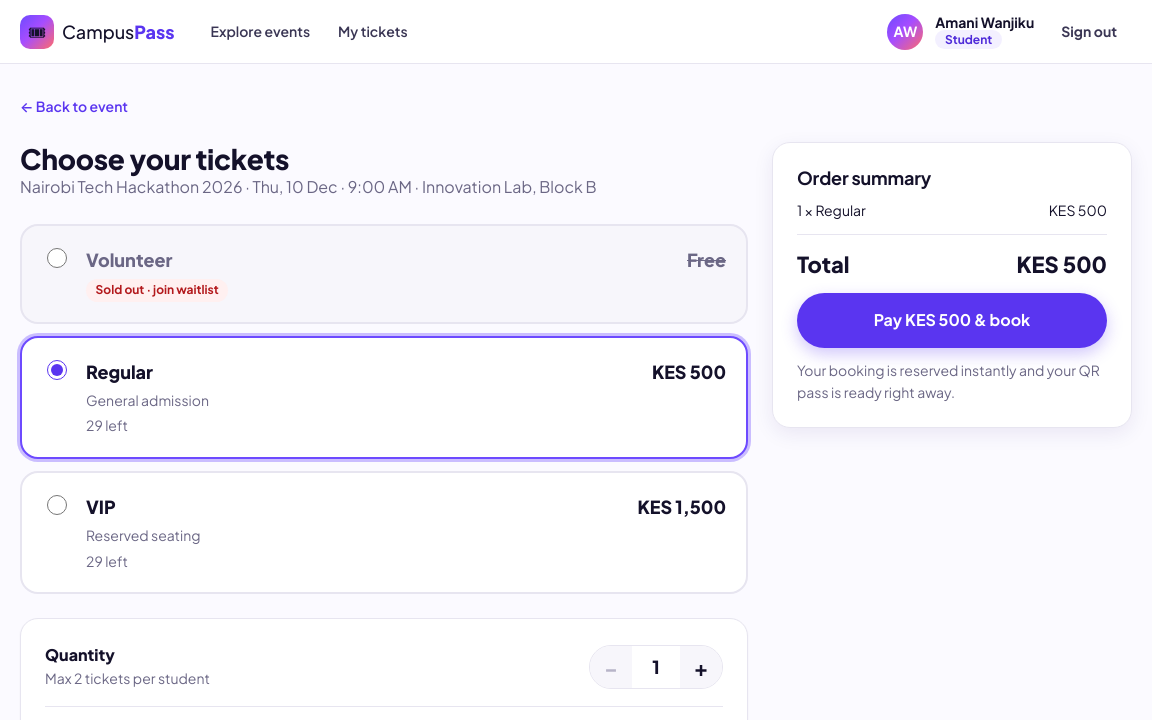
Test: Event details & booking flow › supports tier selection, the 2-ticket cap, live KES total and sold-out waitlist
expect the heading "Choose your tickets" is shown: met, box x1=20 y1=141 x2=289 y2=176
expect the text "Sold out · join waitlist" is shown: met, box x1=86 y1=278 x2=228 y2=302
Click the radio button labelled "VIP KES 1,500 Reserved seating 29 left": click(57, 505) x1=47 y1=495 x2=67 y2=515
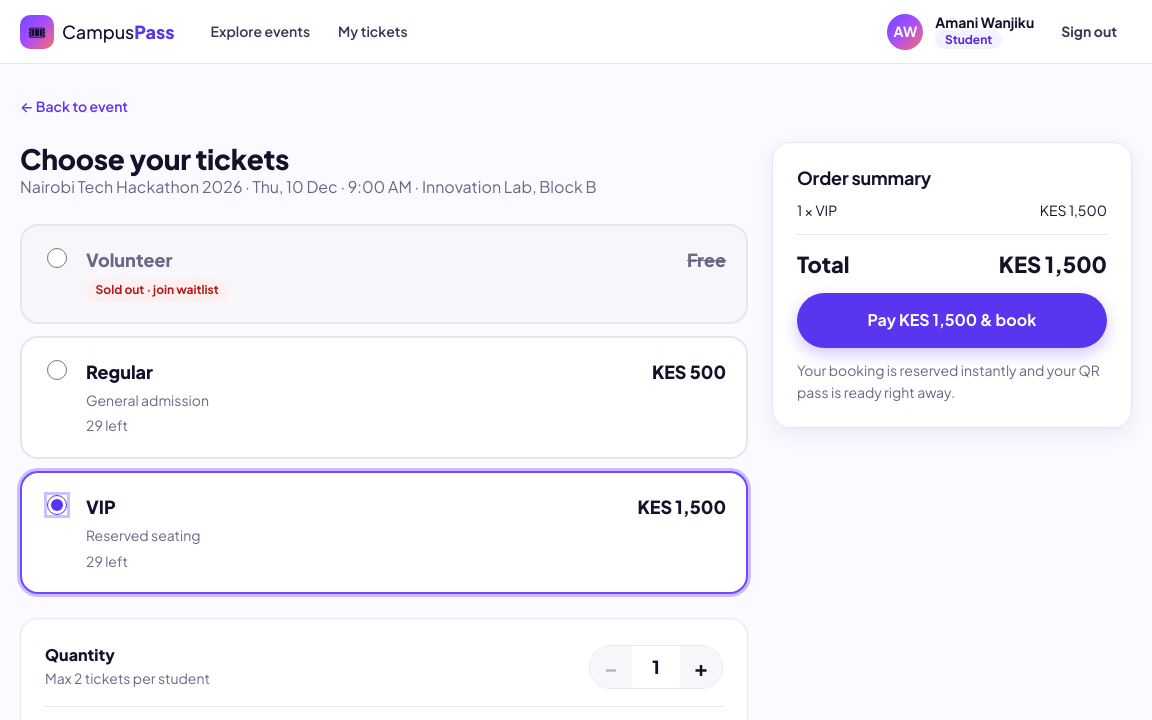
Click the button named "Increase quantity": click(701, 667) x1=680 y1=646 x2=722 y2=688
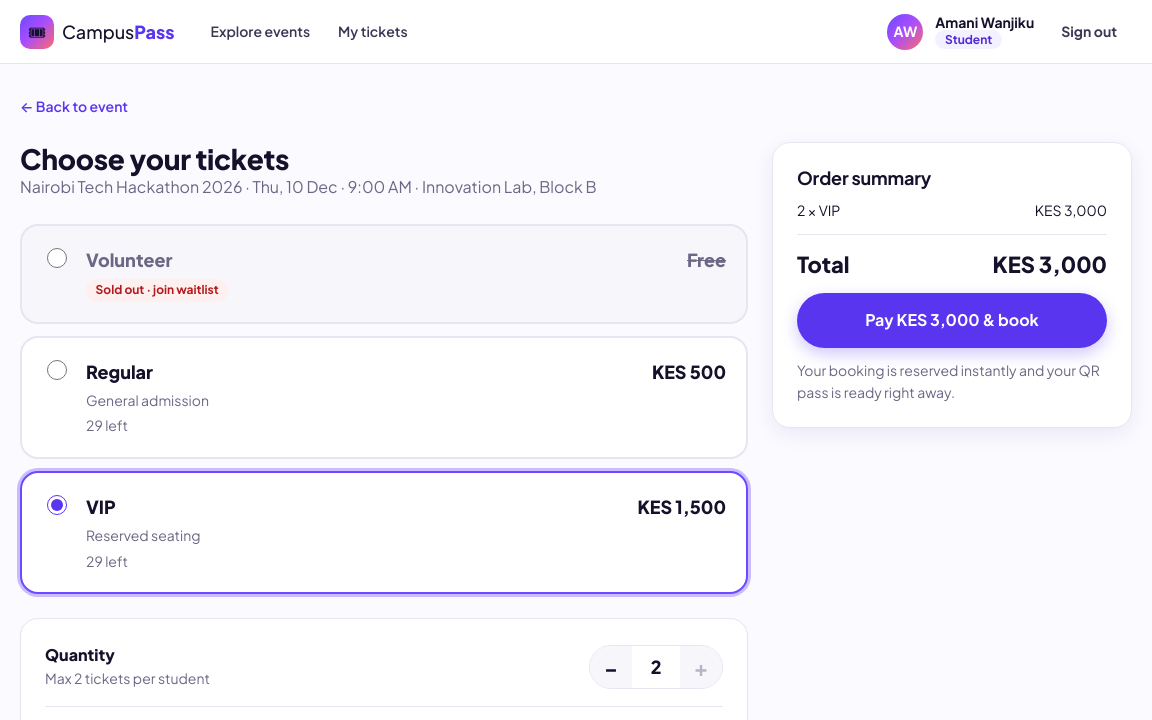
expect the text with test id "booking-total" reads "KES 3,000": met, box x1=993 y1=250 x2=1107 y2=278
expect the button named "Increase quantity" is disabled: met, box x1=680 y1=646 x2=722 y2=688
Click the radio button labelled "Volunteer Free Sold out · join waitlist": click(57, 258) x1=47 y1=248 x2=67 y2=268
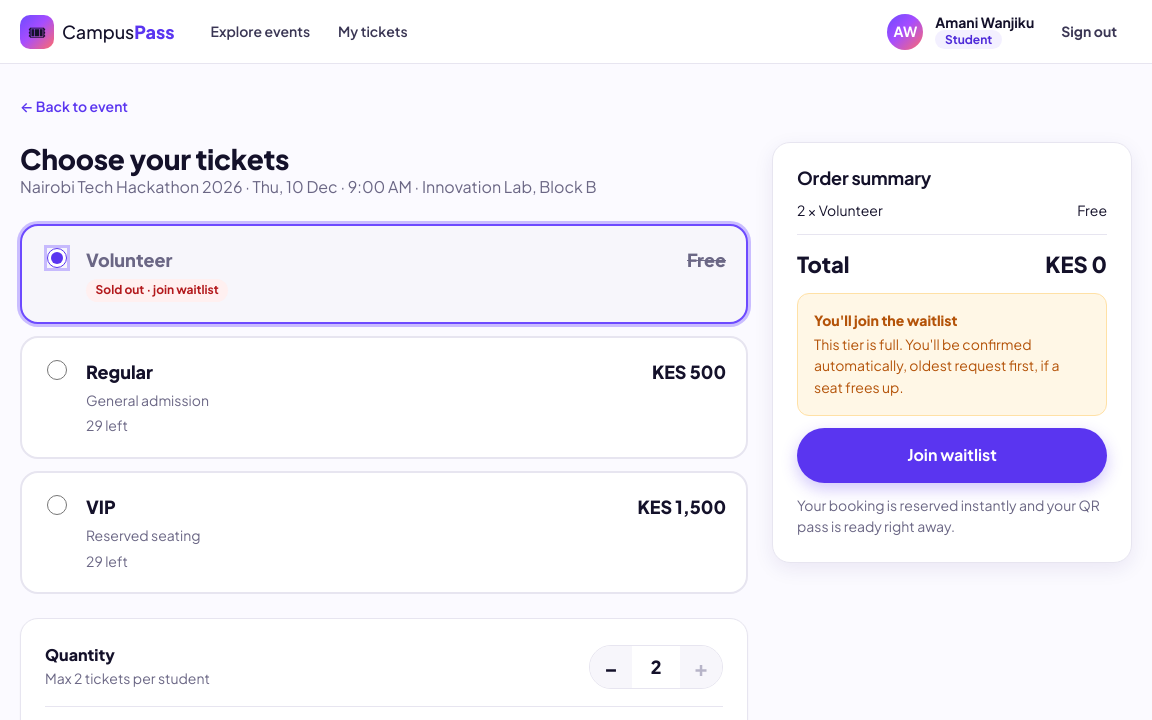
expect the button "Join waitlist" is shown: met, box x1=797 y1=428 x2=1107 y2=483
